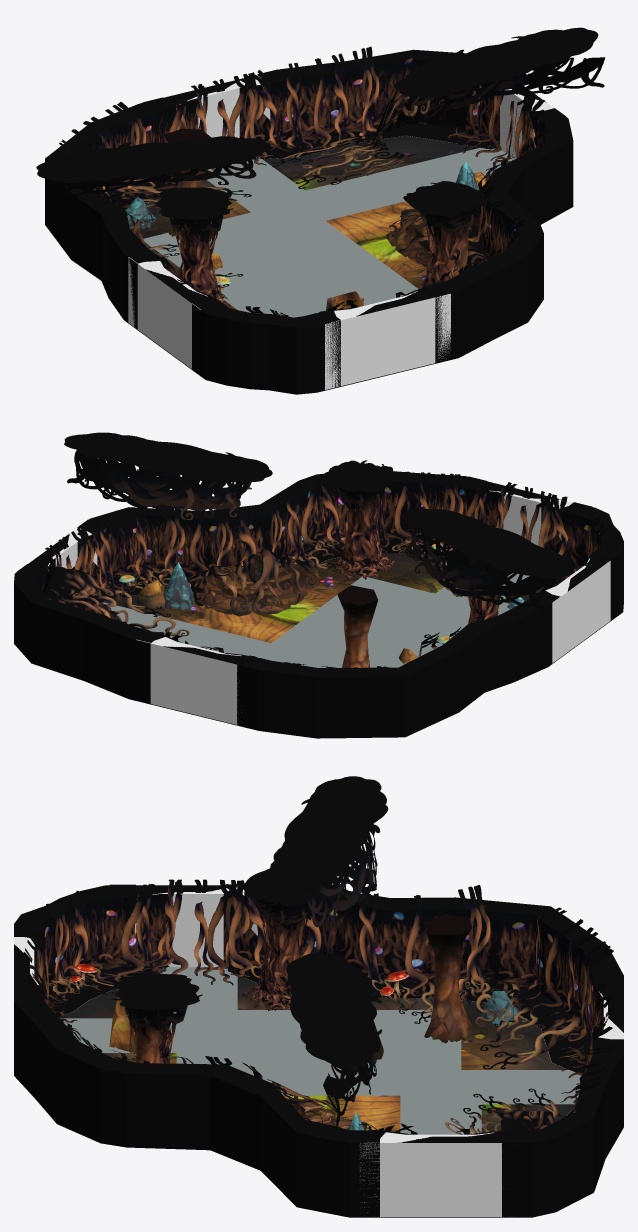
Rendered from Dungeon_021_Room_003.fbx.
The picture shows the model from 3 angles, top to bottom: view 1: azimuth 30°, elevation 25°; view 2: azimuth 150°, elevation 25°; view 3: azimuth 270°, elevation 25°; orthographic projection. The views are drawn at different scales.
Parts seen in each view (by area): view 1: Dun_021_Room_003_wall, Dungeon_021_Object_025, DoorWay_NavMask (1) (×4), Quad_Nav_SP, Dun_021_Room_003_ground, Dungeon_021_Object_021, Quad_Nav_SP (3), un_021_Door_002 (×4), un_021_Door_002_Object1 (×2), Dungeon_021_Object_024, Quad_Nav_SP (4), Dungeon_021_Object_010 (+10 smaller); view 2: Dun_021_Room_003_wall, Dungeon_021_Object_025, DoorWay_NavMask (1) (×4), Quad_Nav_SP, Dungeon_021_Object_021, Dun_021_Room_003_ground, un_021_Door_002 (×4), un_021_Door_002_Object1 (×2), Dungeon_021_Object_015, Dungeon_021_Object_016, Dungeon_021_Object_011, Dungeon_021_Object_024 (+8 smaller); view 3: Dun_021_Room_003_wall, Dungeon_021_Object_025, Quad_Nav_SP, DoorWay_NavMask (1) (×2), Dungeon_021_Object_021, Dun_021_Room_003_ground, un_021_Door_002_Object1 (×3), un_021_Door_002 (×4), Dungeon_011_Object_010 (×2), Dungeon_021_Object_022, Dun_011_Room_003_shadow, Quad_Nav_SP (4) (+12 smaller).
Part boxes in pixels (box(x1,y1,x2,y2)): Dun_021_Room_003_wall: box(45, 49, 573, 394); Dungeon_021_Object_025: box(36, 27, 605, 203); DoorWay_NavMask (1) (×4): box(128, 75, 553, 389); Quad_Nav_SP: box(143, 201, 418, 311); Dun_021_Room_003_ground: box(130, 135, 472, 309); Dungeon_021_Object_021: box(59, 46, 548, 316); Quad_Nav_SP (3): box(259, 145, 514, 228); un_021_Door_002 (×4): box(126, 69, 566, 386); un_021_Door_002_Object1 (×2): box(166, 70, 544, 184); Dungeon_021_Object_024: box(272, 88, 473, 188); Quad_Nav_SP (4): box(204, 157, 329, 225); Dungeon_021_Object_010: box(403, 181, 487, 233); Dun_021_Room_003_wall: box(14, 471, 623, 738); Dungeon_021_Object_025: box(64, 432, 575, 611); DoorWay_NavMask (1) (×4): box(52, 491, 610, 724); Quad_Nav_SP: box(254, 576, 506, 667); Dungeon_021_Object_021: box(71, 471, 607, 669); Dun_021_Room_003_ground: box(102, 553, 550, 642); un_021_Door_002 (×4): box(17, 476, 620, 725); un_021_Door_002_Object1 (×2): box(43, 481, 576, 595); Dungeon_021_Object_015: box(188, 552, 319, 616); Dungeon_021_Object_016: box(187, 548, 319, 613); Dungeon_021_Object_011: box(332, 491, 395, 580); Dungeon_021_Object_024: box(43, 566, 211, 649); Dun_021_Room_003_wall: box(14, 885, 623, 1217); Dungeon_021_Object_025: box(270, 776, 388, 1127); Quad_Nav_SP: box(176, 1010, 461, 1095); DoorWay_NavMask (1) (×2): box(160, 886, 501, 1216); Dungeon_021_Object_021: box(39, 885, 613, 1130); Dun_021_Room_003_ground: box(59, 977, 575, 1132); un_021_Door_002_Object1 (×3): box(20, 879, 617, 1107); un_021_Door_002 (×4): box(14, 884, 623, 1217); Dungeon_011_Object_010 (×2): box(130, 914, 474, 1063); Dungeon_021_Object_022: box(48, 956, 583, 1069); Dun_011_Room_003_shadow: box(49, 967, 590, 1115); Quad_Nav_SP (4): box(420, 1070, 581, 1104).
Size of what is drawn, in the model's own units: 18.45 by 4.55 by 15.
